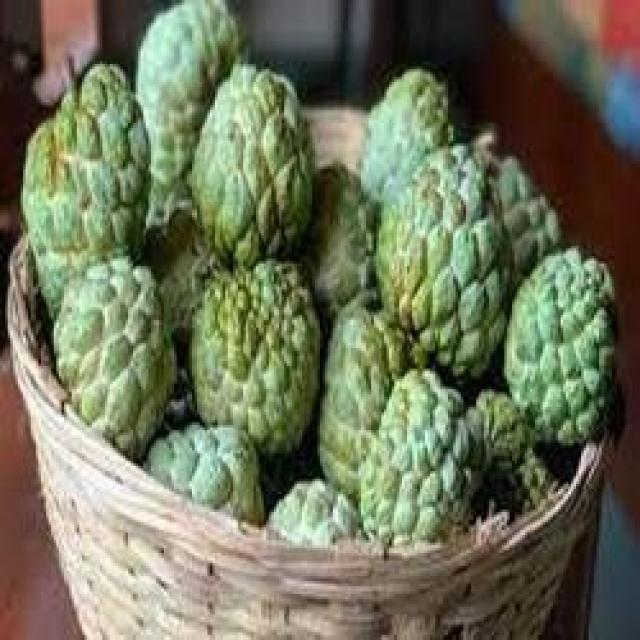apple: (366, 120, 520, 379), (31, 264, 197, 463), (20, 59, 158, 294), (184, 248, 338, 456), (184, 56, 330, 269), (496, 240, 624, 450), (361, 358, 486, 550)
